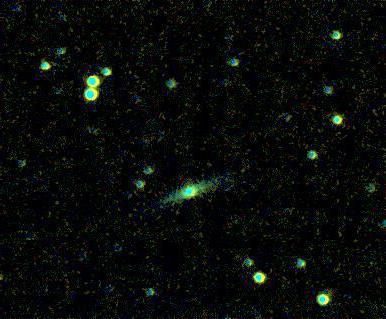star: (229, 157, 259, 187)
